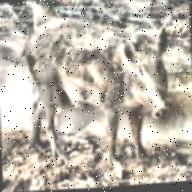boar: (14, 1, 192, 168)
